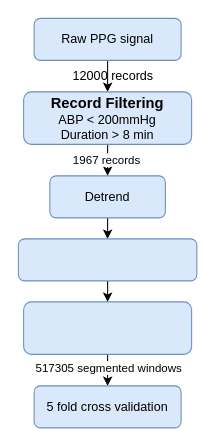
Some shapes in this 215 by 446 pixel diagram are drawn without their labels. Each missing label, with the centre of its shape:
"Sliding window Segmentation (8.192s, 75% overlap)" belongs at pixel 107 327.
"Z score standardization" belongs at pixel 107 259.
